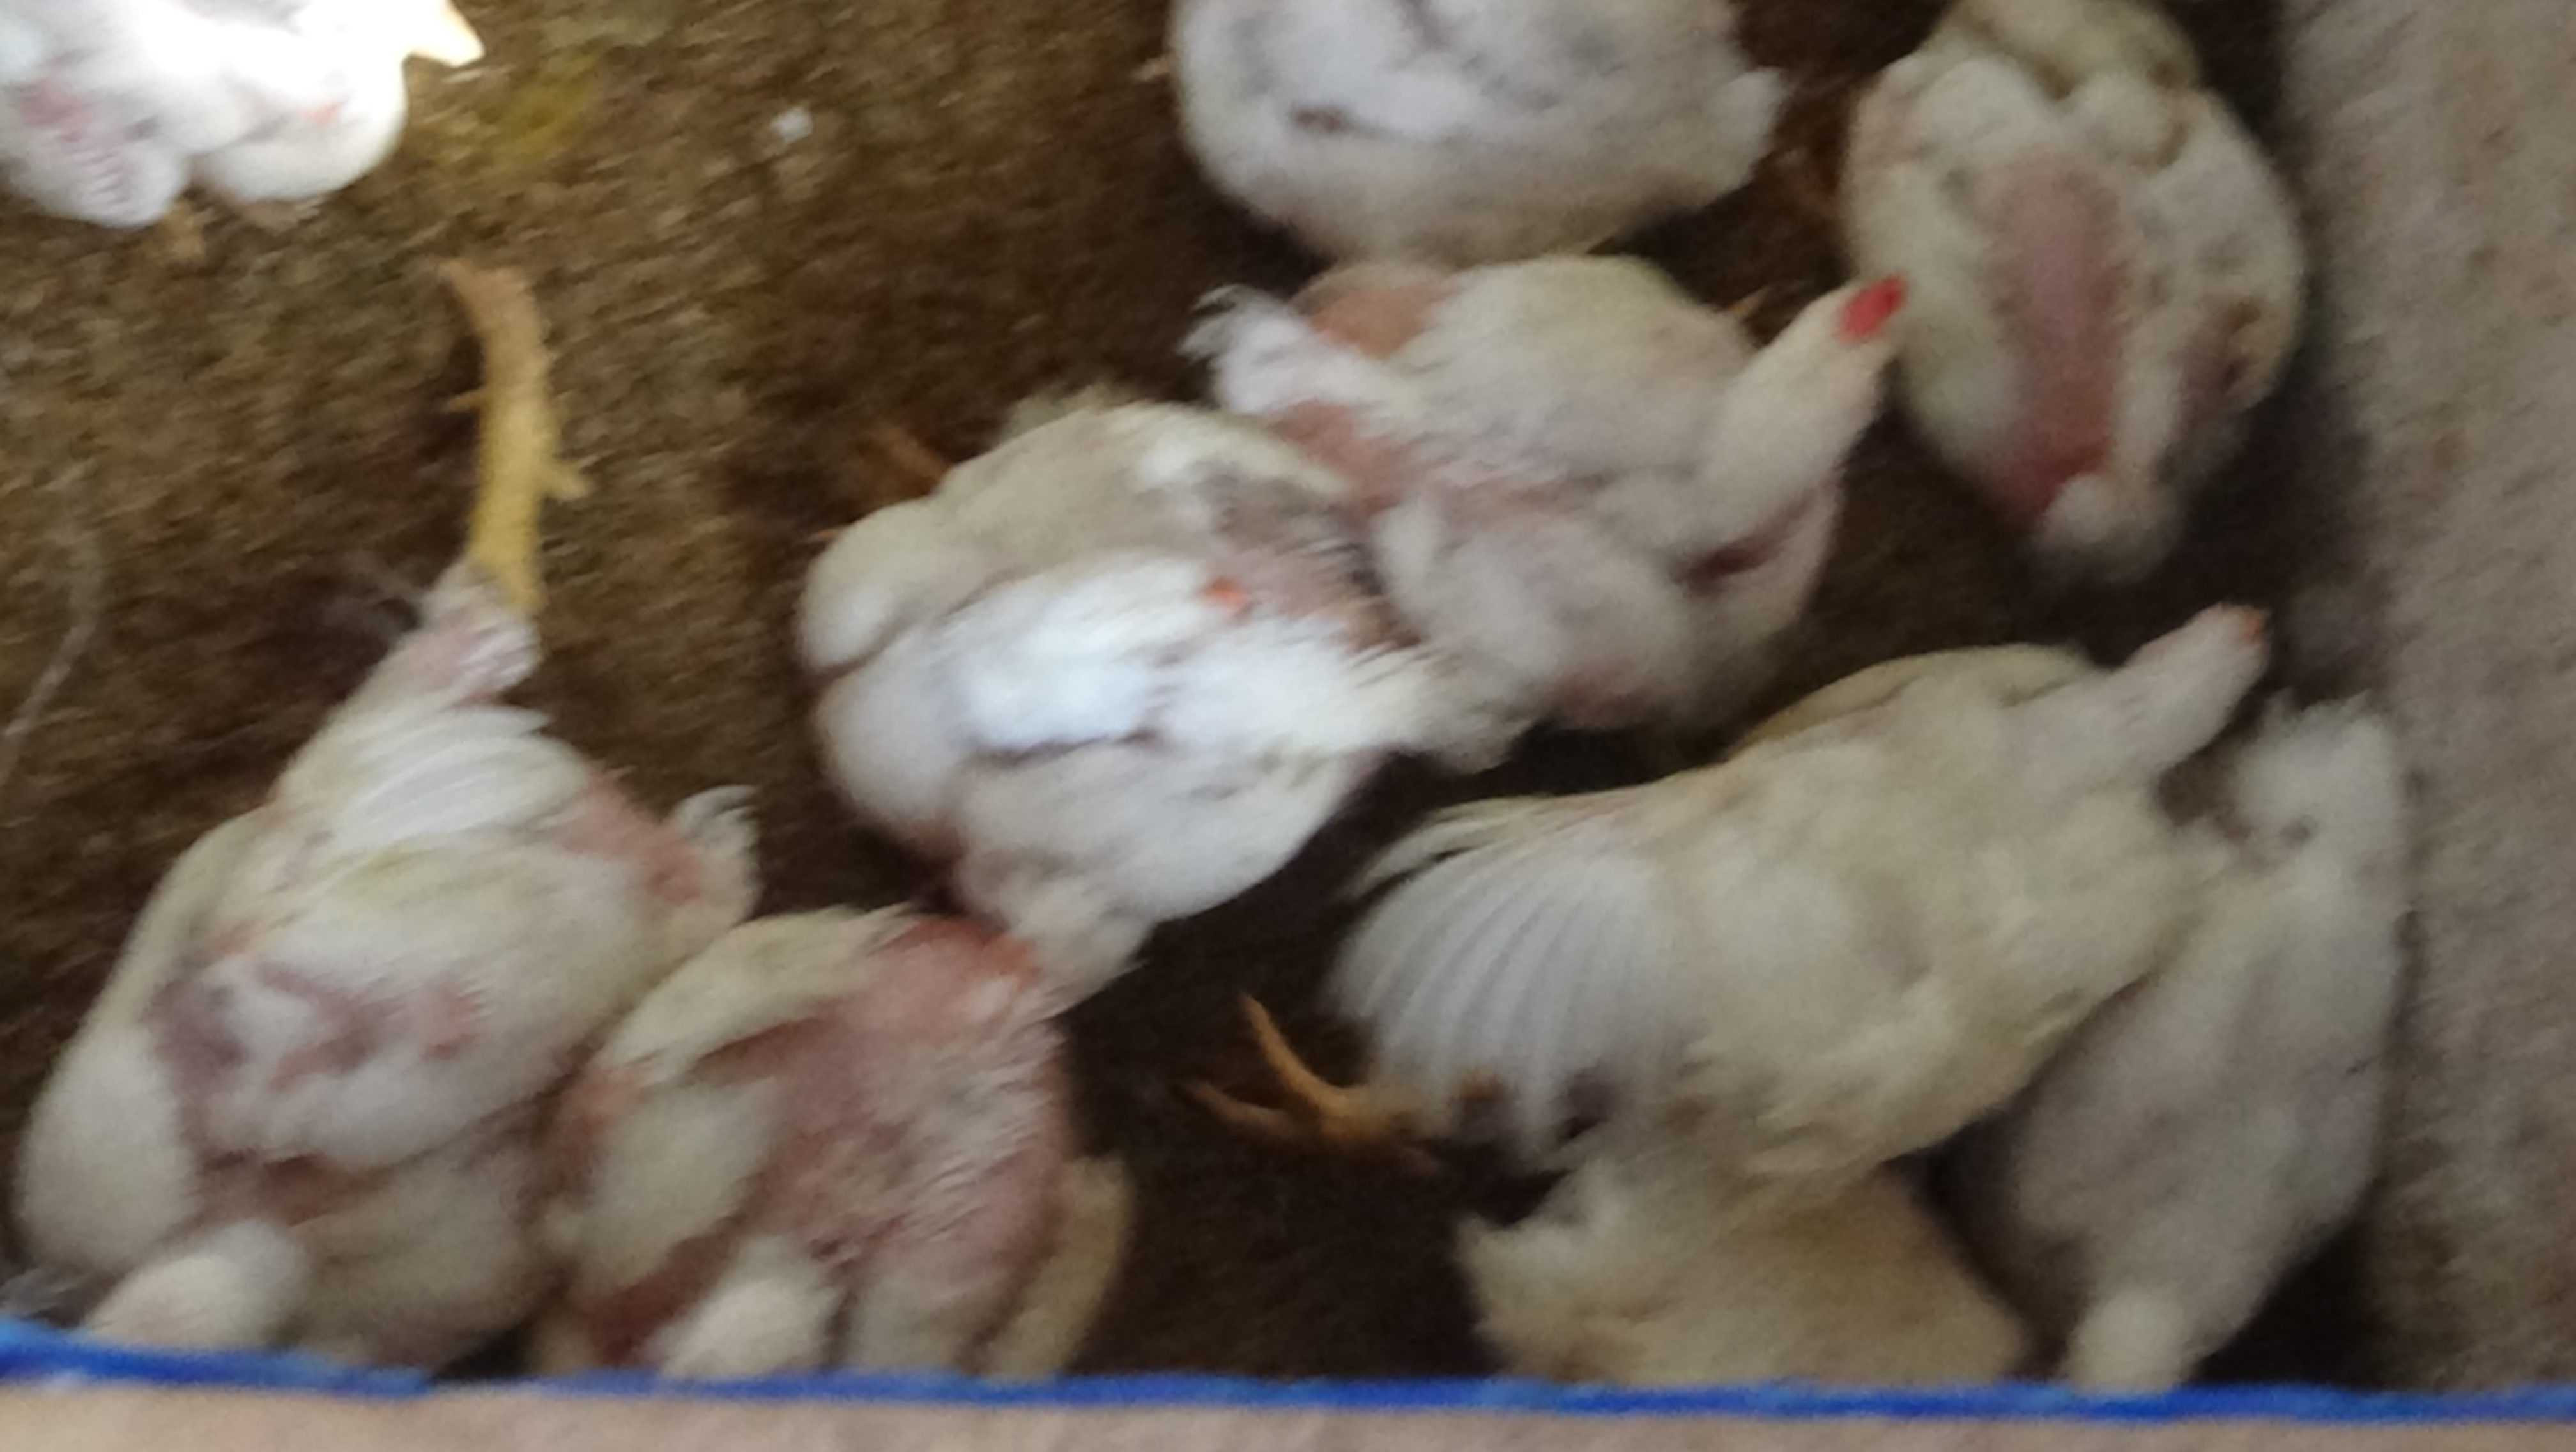Pollos: (37, 395, 745, 1413), (1233, 561, 2300, 1155), (775, 379, 1568, 935), (568, 744, 1171, 1404), (1219, 216, 1909, 744), (2020, 696, 2482, 1363), (1893, 0, 2309, 593), (1104, 9, 1838, 283), (0, 0, 469, 239)
